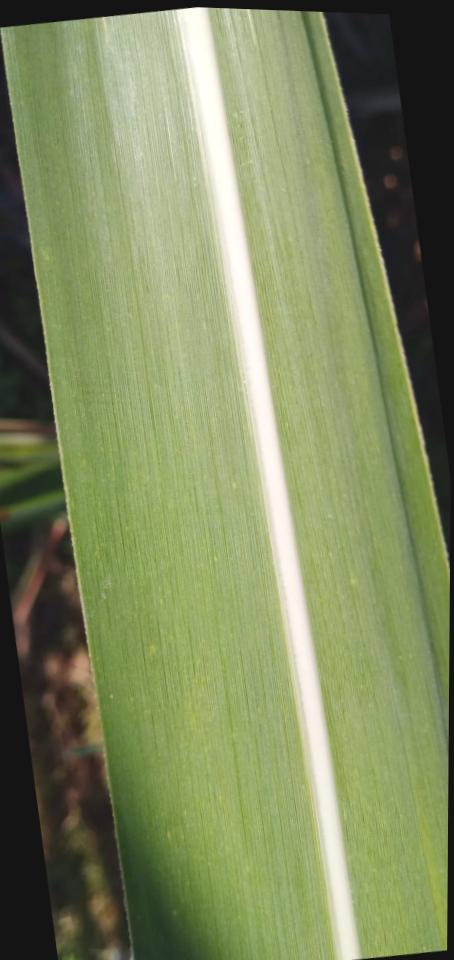Healthy: (2, 7, 450, 960)
